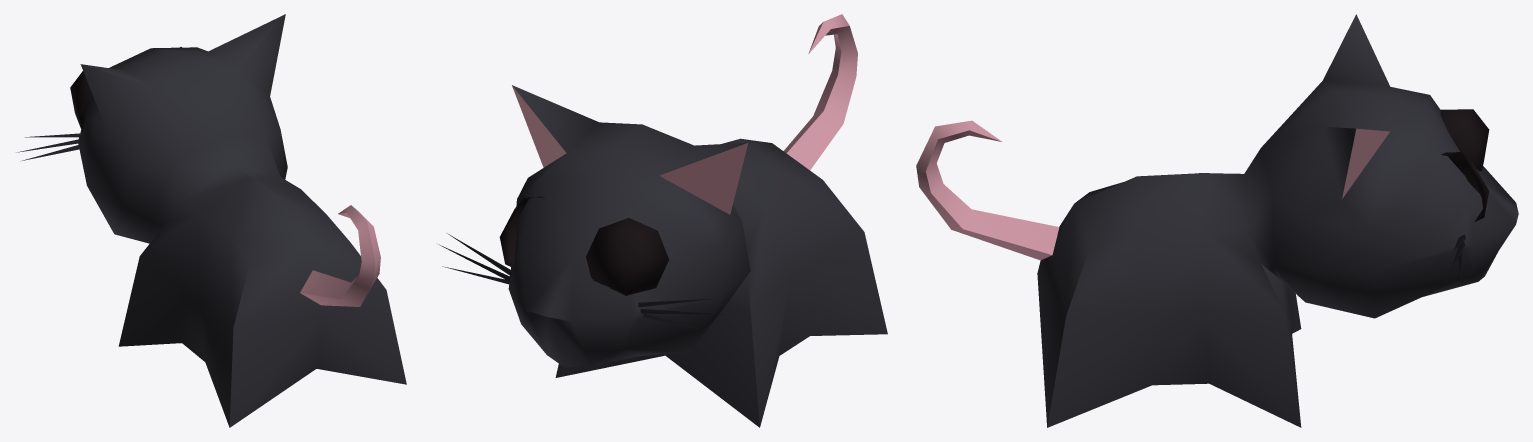
Rendered from rat.fbx.
The picture shows the model from 3 angles, left to right: view 1: azimuth 30°, elevation 25°; view 2: azimuth 150°, elevation 25°; view 3: azimuth 270°, elevation 25°; orthographic projection. The views are drawn at different scales.
Parts seen in each view (by area): view 1: Cube; view 2: Cube; view 3: Cube.
Part boxes in pixels (box(x1,y1,x2,y2)): Cube: box(16, 14, 406, 427); Cube: box(439, 14, 887, 427); Cube: box(916, 14, 1518, 427).
Size of the model in its own units: 268 by 269 by 478.
